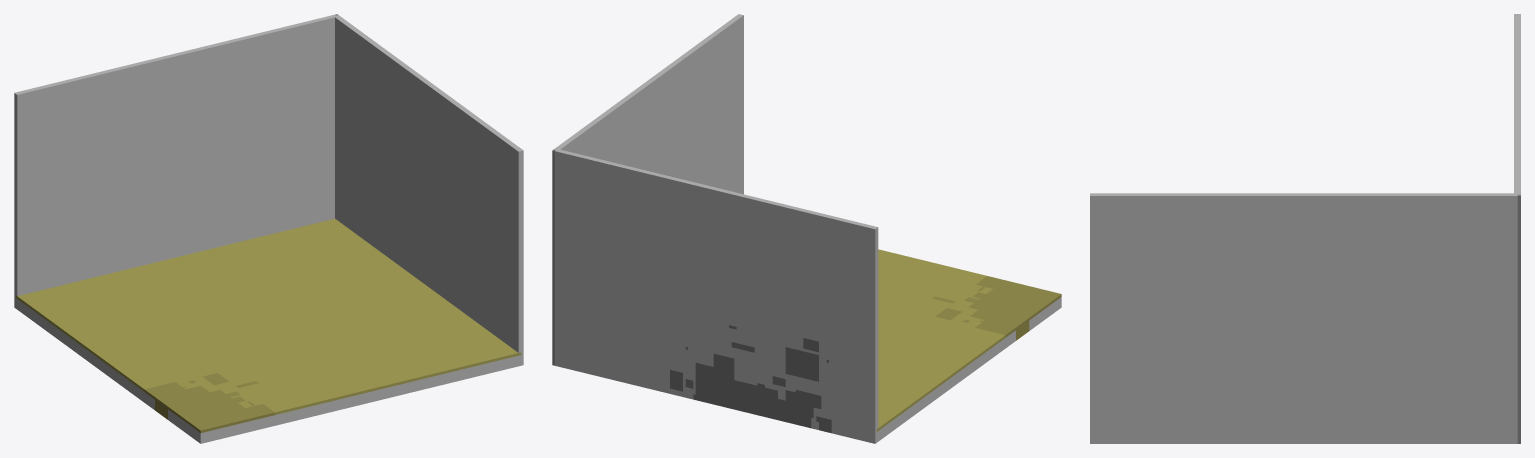
Rendered from 2x2 first (des)-2.obj.
The picture shows the model from 3 angles, left to right: view 1: azimuth 30°, elevation 25°; view 2: azimuth 150°, elevation 25°; view 3: azimuth 270°, elevation 25°; orthographic projection. The views are drawn at different scales.
Parts seen in each view (by area): view 1: 2x2 first (des)-2; view 2: 2x2 first (des)-2; view 3: 2x2 first (des)-2.
Part boxes in pixels (<box>): 2x2 first (des)-2: <box>14,14,523,443</box>; 2x2 first (des)-2: <box>552,14,1061,443</box>; 2x2 first (des)-2: <box>1090,14,1520,443</box>.
Bounding box in the file's own units: 126 × 80 × 126.
1 material, 1 textured.
